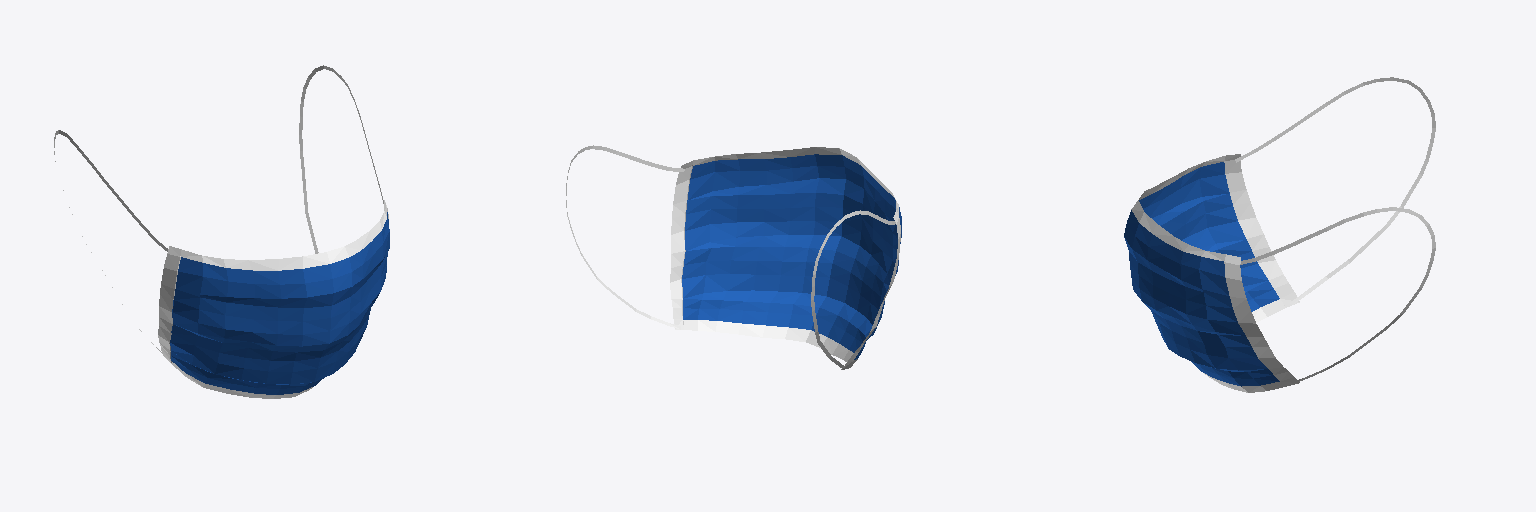
Rendered from Mask.obj.
3 renders of one model, left to right at view 1: azimuth 30°, elevation 25°; view 2: azimuth 150°, elevation 25°; view 3: azimuth 270°, elevation 25°, orthographic.
Visible parts, largest first — view 1: mask_LP_Material.001, mask_LP_Material; view 2: mask_LP_Material.001, mask_LP_Material; view 3: mask_LP_Material.001, mask_LP_Material.
Boxes of the visible parts, <box> form: mask_LP_Material.001: <box>170,212,389,394</box>; mask_LP_Material: <box>54,65,388,398</box>; mask_LP_Material.001: <box>682,154,901,359</box>; mask_LP_Material: <box>566,145,900,369</box>; mask_LP_Material.001: <box>1124,162,1279,386</box>; mask_LP_Material: <box>1131,77,1435,392</box>.
Bounding box in the file's own units: 1.62 × 1.32 × 1.64.